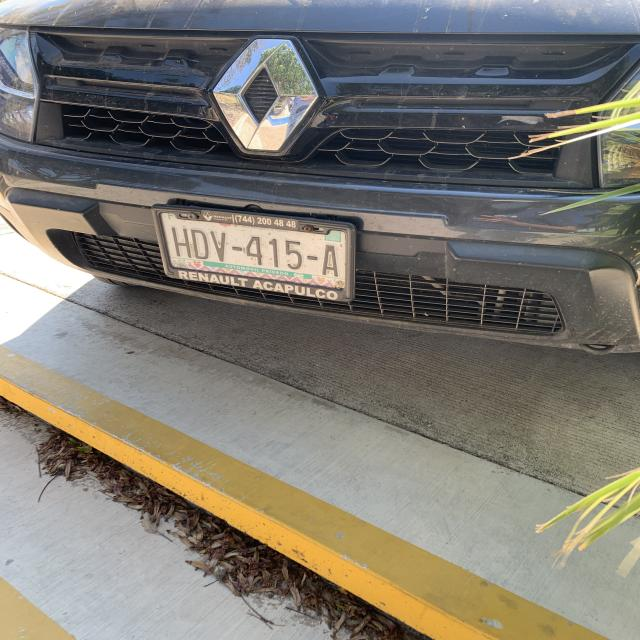placa: (160, 225, 347, 278)
